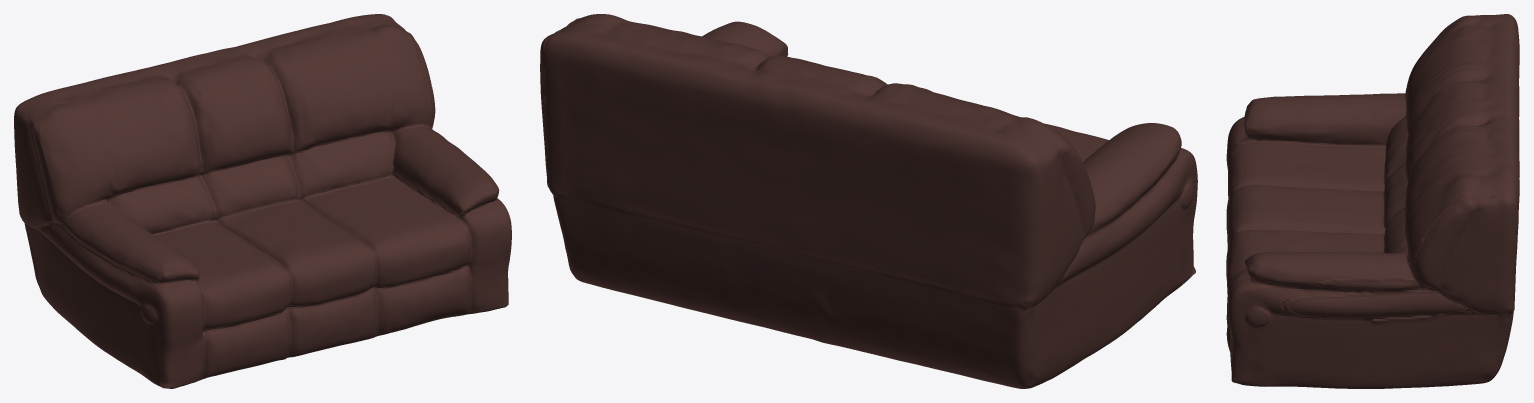
3 renders of one model, left to right at view 1: azimuth 30°, elevation 25°; view 2: azimuth 150°, elevation 25°; view 3: azimuth 270°, elevation 25°, orthographic. The views are drawn at different scales.
Visible parts, largest first — view 1: world; view 2: world; view 3: world.
Part boxes in pixels (<box>): world: <box>14,14,511,388</box>; world: <box>540,14,1197,388</box>; world: <box>1226,14,1519,388</box>.
Bounding box in the file's own units: 1.96 × 0.9802 × 1.27.
